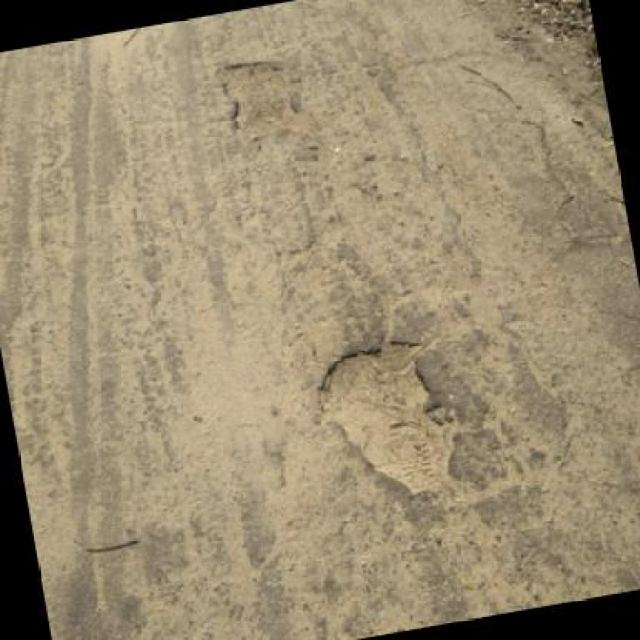pothole1: (306, 320, 474, 512), (213, 48, 313, 148)
